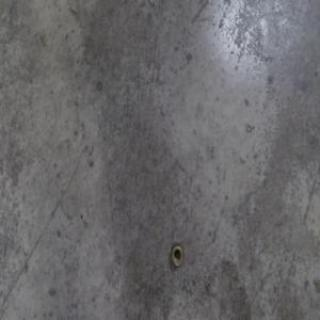Nuttrack_idkeyframe: (170, 240, 182, 266)
